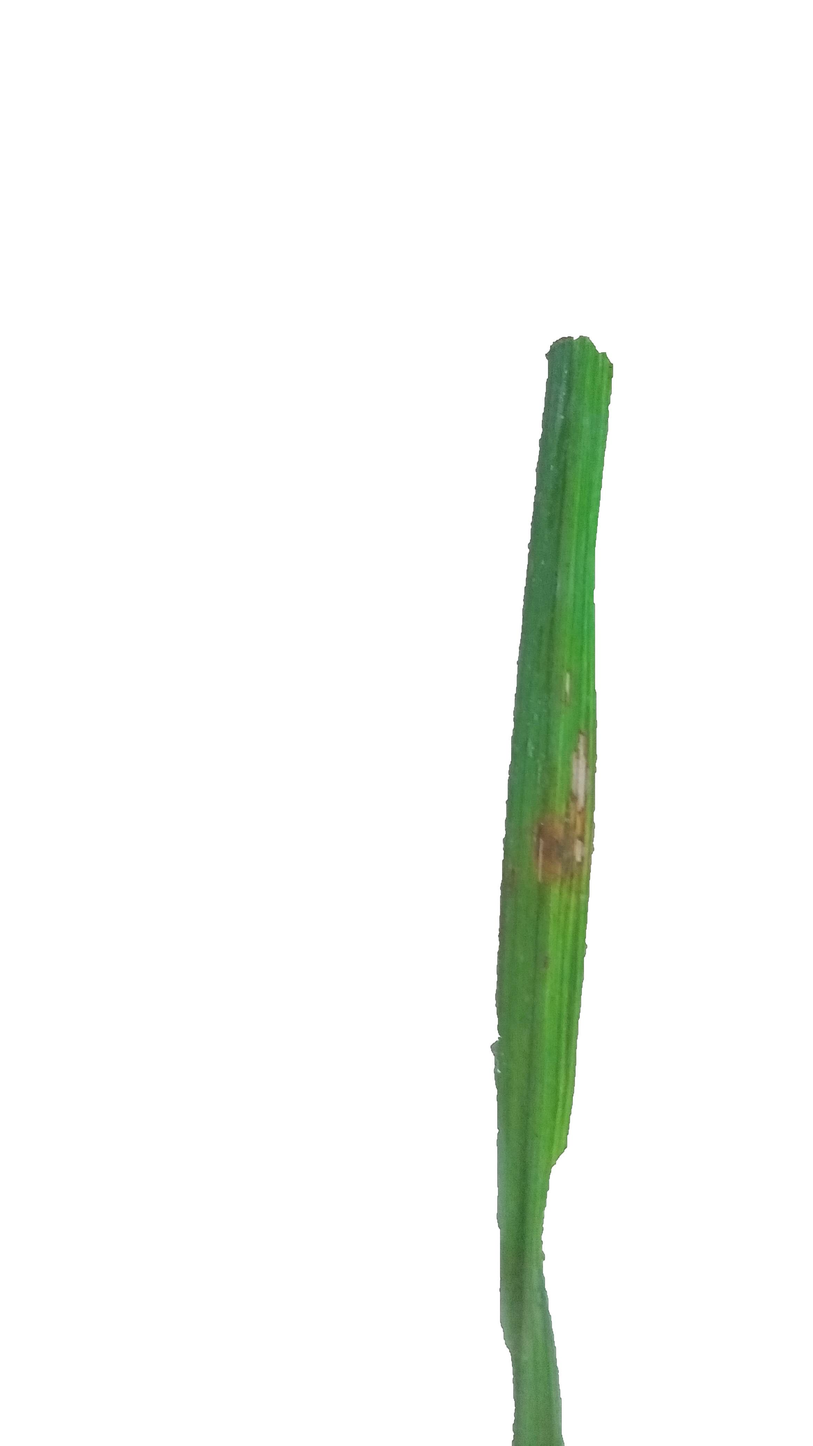Rice blast: (545, 726, 601, 813)
